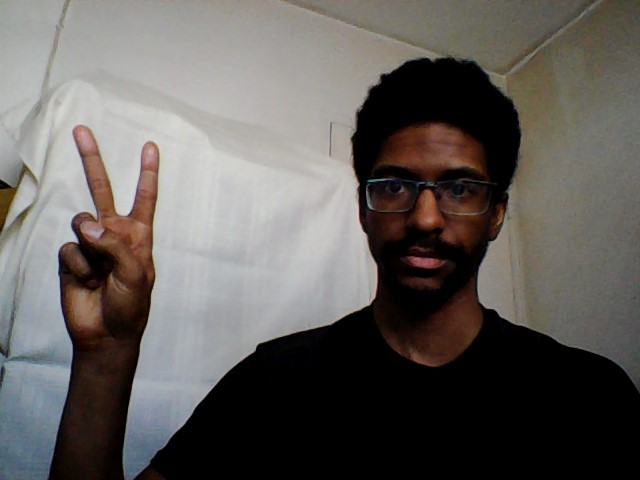v: (55, 121, 164, 339)
